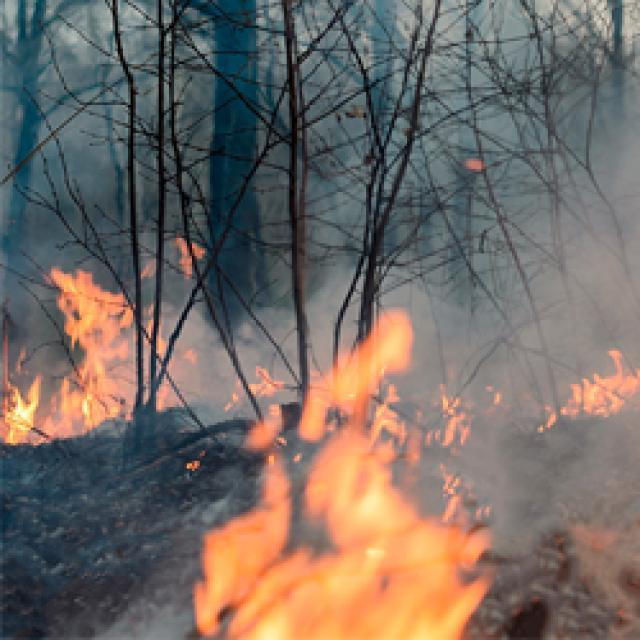Fire: (195, 300, 488, 640), (0, 261, 131, 457), (143, 265, 173, 417), (170, 232, 207, 280), (466, 156, 486, 179)
Smoke: (156, 0, 464, 217), (0, 0, 167, 249), (486, 151, 640, 365), (465, 0, 640, 155), (481, 412, 640, 574), (250, 216, 484, 297), (59, 589, 194, 640)
